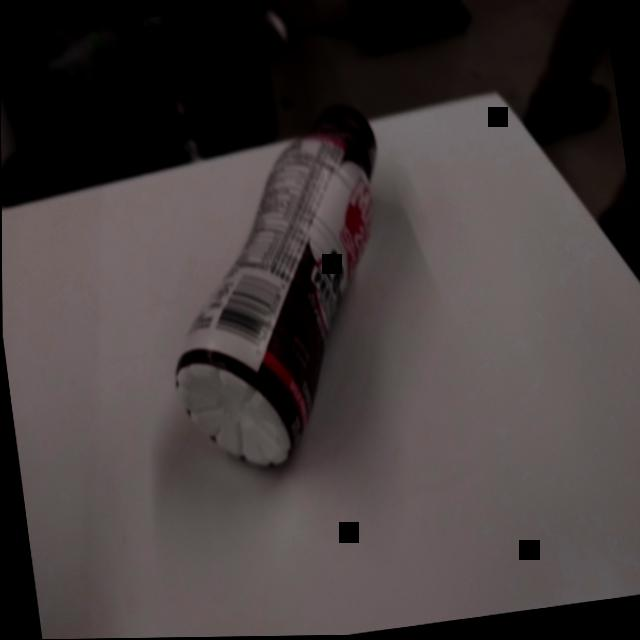chocolate_drink: (134, 91, 423, 494)
